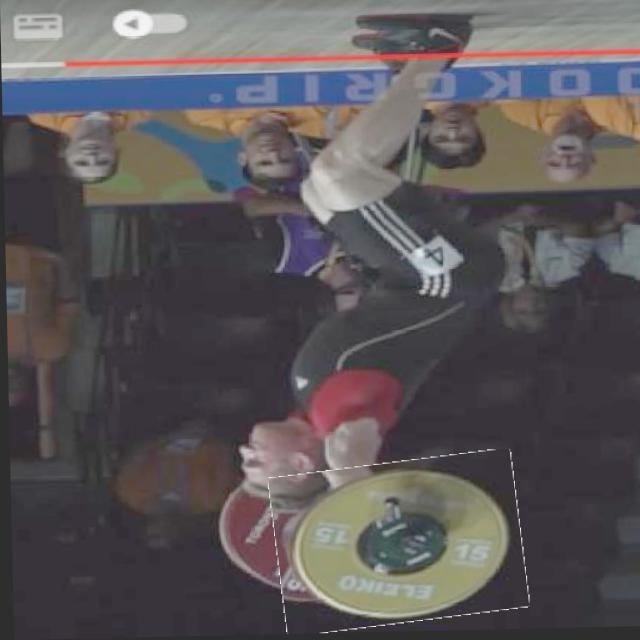barbell: (270, 458, 524, 634)
